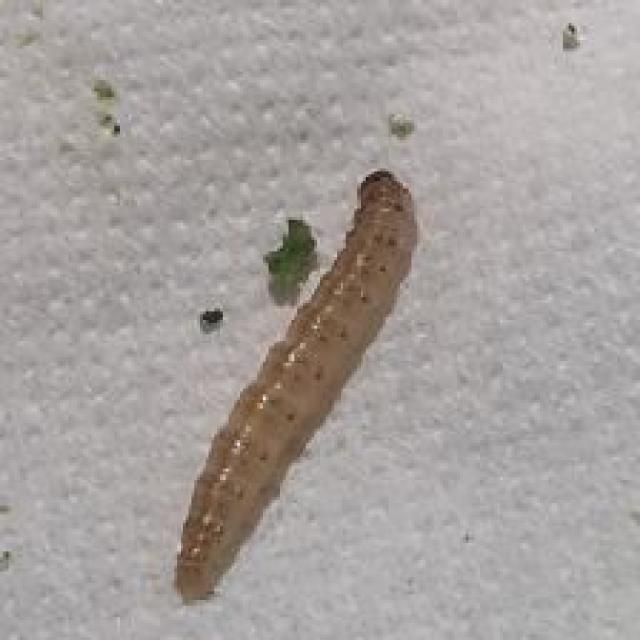white mucus: (140, 159, 447, 584)
